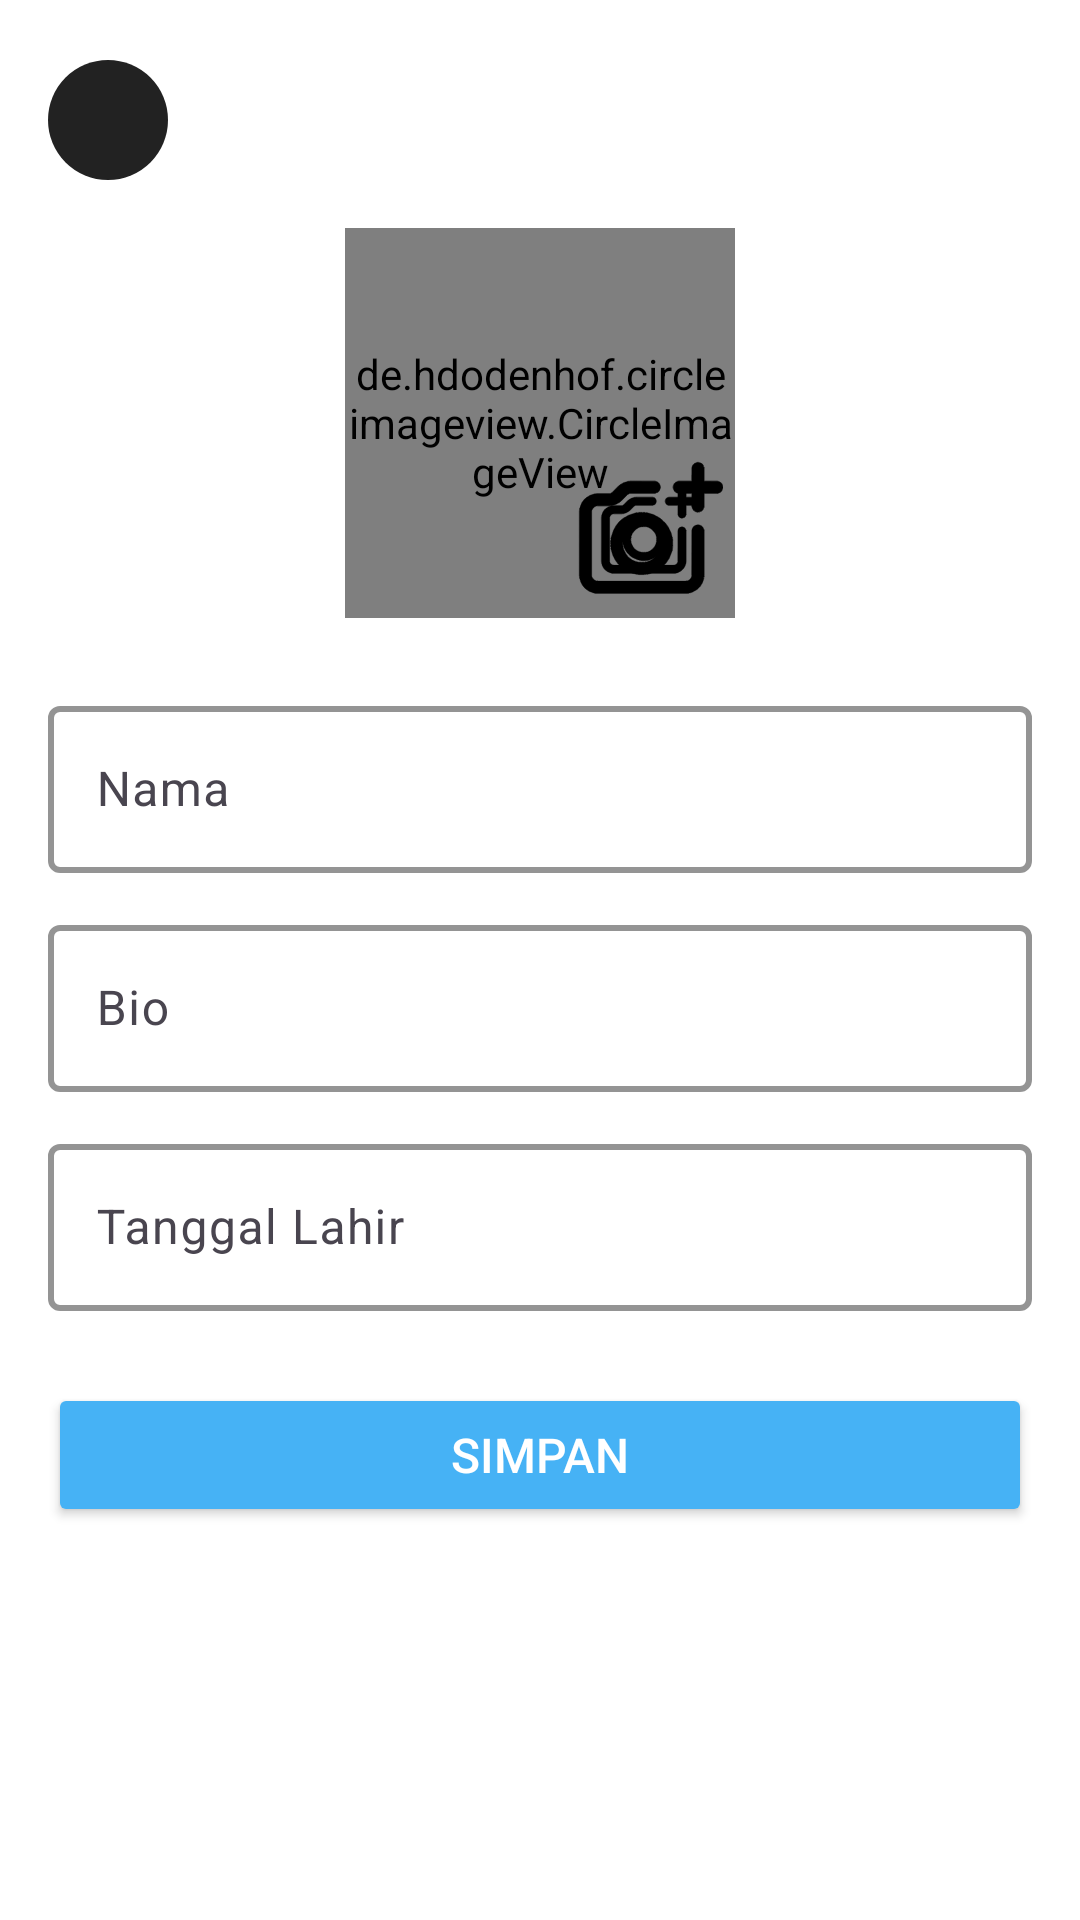

Icons on this 1080 x 1920 Android screen, each with its box as (x1, y1, x2, y2):
add camera: (578, 462, 723, 594)
